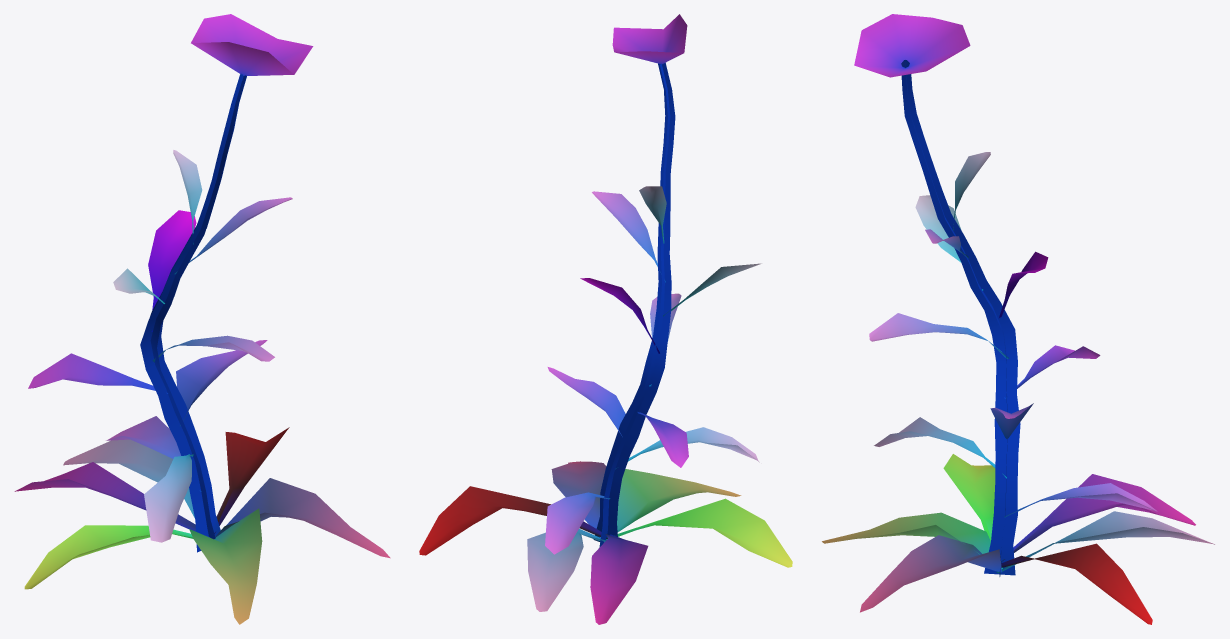
Rendered from Field_Poppy_vmcobd0ja_Low_vmcobd0ja_VarH_LOD0.fbx.
3 renders of one model, left to right at view 1: azimuth 30°, elevation 25°; view 2: azimuth 150°, elevation 25°; view 3: azimuth 270°, elevation 25°, orthographic. The views are drawn at different scales.
Visible parts, largest first — view 1: _2f1n_VarH_LOD2; view 2: _2f1n_VarH_LOD2; view 3: _2f1n_VarH_LOD2.
Boxes of the visible parts, x1,y1,x2,y2 form: _2f1n_VarH_LOD2: (14,14,390,624); _2f1n_VarH_LOD2: (419,14,792,624); _2f1n_VarH_LOD2: (822,14,1214,624).
Size of the model in its own units: 41.7 by 66.6 by 43.66.
